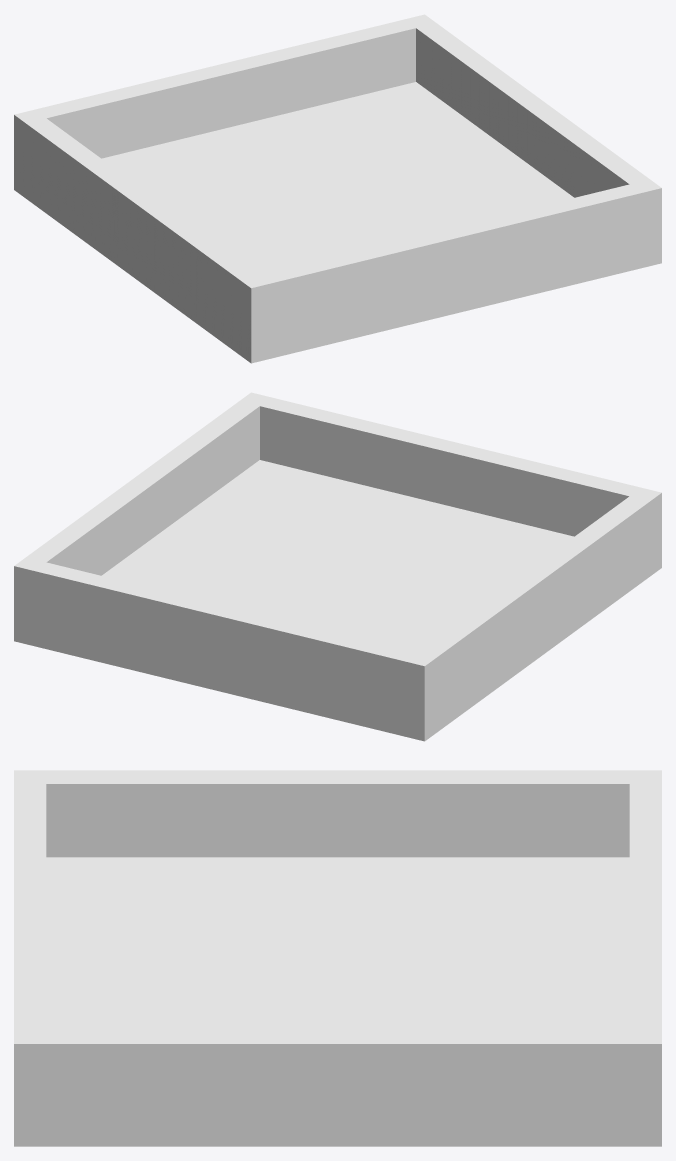
File: WhiteRoof_4Edges.glb
The picture shows the model from 3 angles, top to bottom: view 1: azimuth 30°, elevation 25°; view 2: azimuth 150°, elevation 25°; view 3: azimuth 270°, elevation 25°; orthographic projection. The views are drawn at different scales.
Visible parts, largest first — view 1: roof_flat_4Edges_white; view 2: roof_flat_4Edges_white; view 3: roof_flat_4Edges_white.
Part boxes in pixels (box(x1,y1,x2,y2)): roof_flat_4Edges_white: box(14, 14, 661, 363); roof_flat_4Edges_white: box(14, 392, 661, 741); roof_flat_4Edges_white: box(14, 770, 661, 1146).
Size of what is drawn, in the model's own units: 4 by 0.7 by 4.
Materials: 1 (1 with a texture image).
